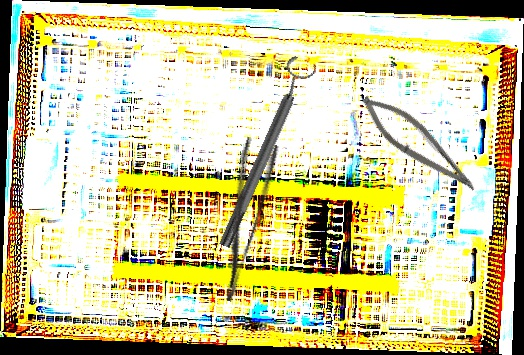Dressing Forceps: (198, 136, 283, 303)
Fixation Ring: (208, 54, 320, 252)
Micro Scissor: (351, 86, 489, 200)
